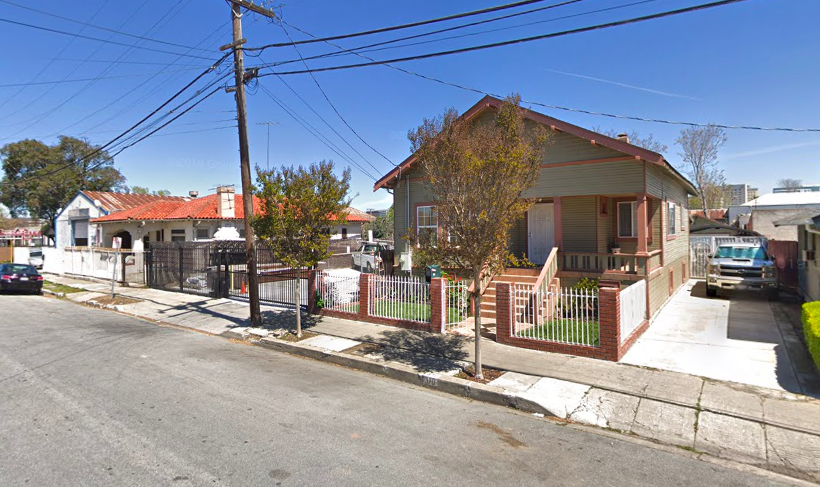tree: (406, 90, 555, 382), (249, 158, 362, 321)
